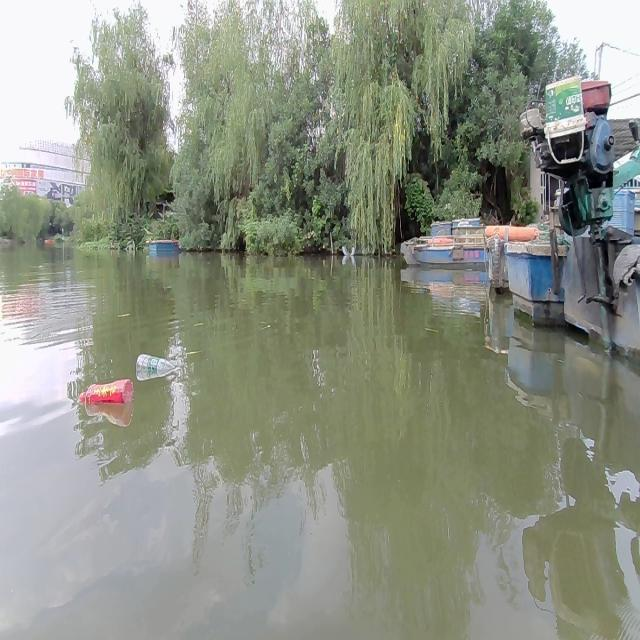bottle: (74, 379, 132, 417), (136, 350, 180, 382)
